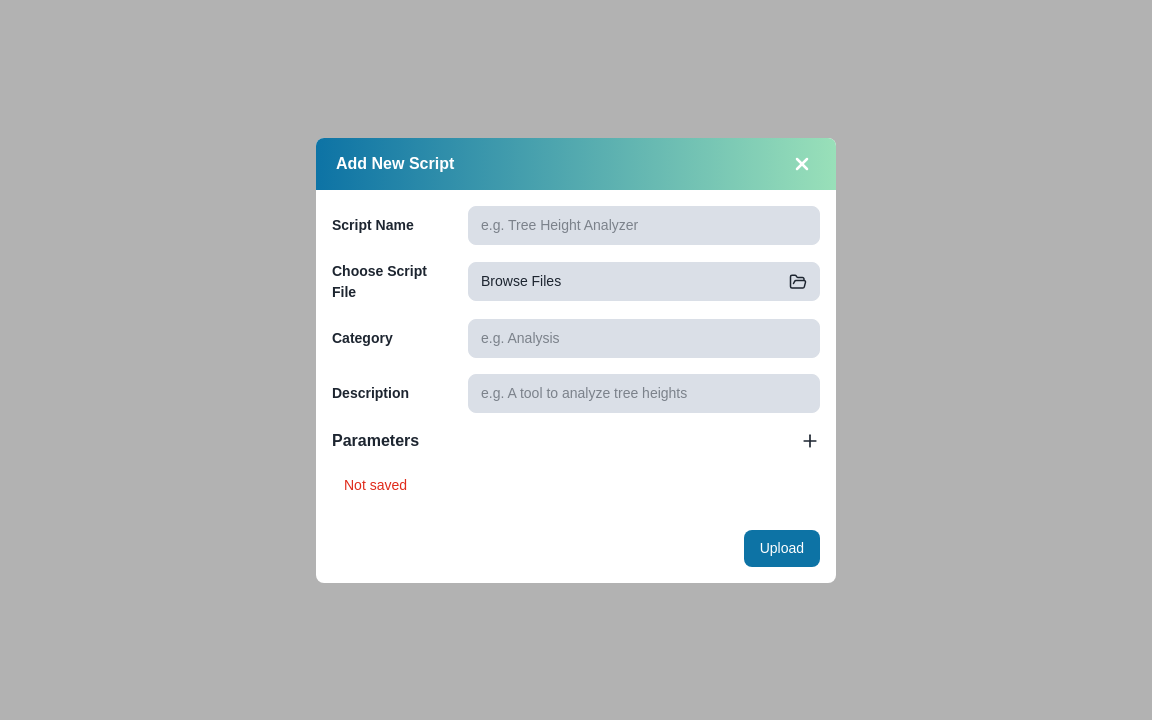
it: AddNewScript Component › displays error when trying to upload without a script file
Click the button "Upload" at (782, 548), box [744,530,820,566]
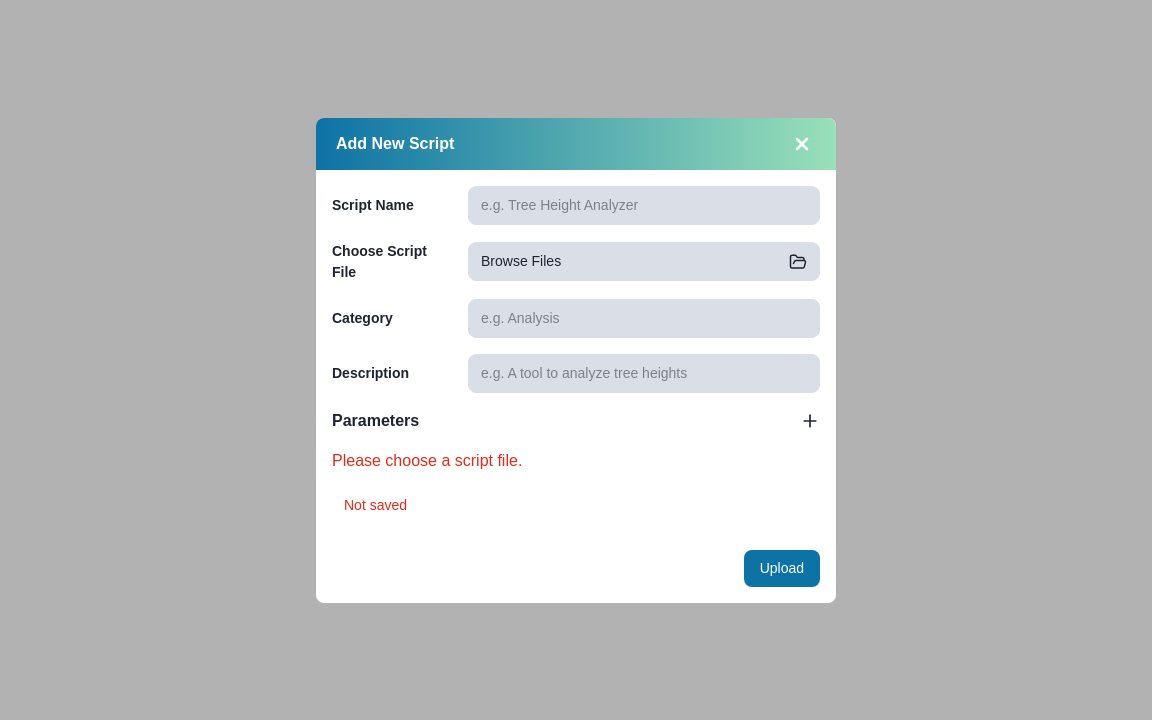
expect the text "Please choose a script file." is shown: met, box [332,452,522,468]
